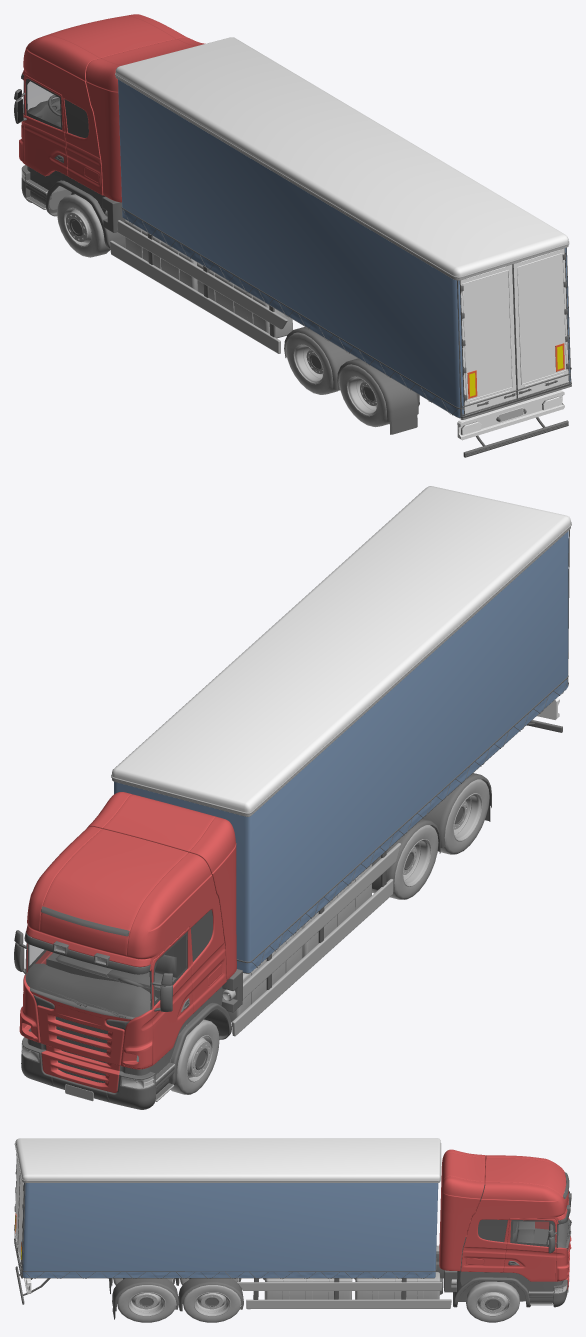
File: truck.fbx
The picture shows the model from 3 angles, top to bottom: view 1: azimuth 30°, elevation 25°; view 2: azimuth 150°, elevation 25°; view 3: azimuth 270°, elevation 25°; orthographic projection. The views are drawn at different scales.
Visible parts, largest first — view 1: polySurface299, polySurface229, polySurface172, polySurface1, polySurface6, polySurface300, polySurface333, polySurface332, polySurface102, polySurface301, polySurface94, polySurface72 (+13 smaller); view 2: polySurface229, polySurface299, polySurface1, polySurface6, polySurface16, polySurface169, polySurface7, polySurface300, polySurface333, polySurface332, polySurface2, polySurface94 (+14 smaller); view 3: polySurface299, polySurface229, polySurface1, polySurface6, polySurface300, polySurface328, polySurface327, polySurface95, polySurface92, polySurface69, polySurface98, polySurface70 (+18 smaller).
Part boxes in pixels (x1=…): polySurface299: x1=118, y1=79, x2=570, y2=416; polySurface229: x1=115, y1=37, x2=569, y2=280; polySurface172: x1=460, y1=248, x2=568, y2=415; polySurface1: x1=19, y1=14, x2=186, y2=195; polySurface6: x1=86, y1=37, x2=205, y2=202; polySurface300: x1=122, y1=209, x2=460, y2=417; polySurface333: x1=110, y1=240, x2=280, y2=353; polySurface332: x1=117, y1=220, x2=287, y2=329; polySurface102: x1=457, y1=390, x2=564, y2=440; polySurface301: x1=337, y1=358, x2=418, y2=422; polySurface94: x1=57, y1=194, x2=110, y2=257; polySurface72: x1=197, y1=262, x2=292, y2=338; polySurface229: x1=111, y1=486, x2=571, y2=816; polySurface299: x1=114, y1=531, x2=568, y2=961; polySurface1: x1=19, y1=826, x2=226, y2=1069; polySurface6: x1=87, y1=792, x2=236, y2=980; polySurface16: x1=25, y1=911, x2=187, y2=1019; polySurface169: x1=29, y1=988, x2=133, y2=1092; polySurface7: x1=25, y1=943, x2=150, y2=1017; polySurface300: x1=237, y1=679, x2=567, y2=972; polySurface333: x1=232, y1=879, x2=393, y2=1036; polySurface332: x1=243, y1=843, x2=400, y2=999; polySurface2: x1=21, y1=1037, x2=155, y2=1109; polySurface94: x1=170, y1=1019, x2=219, y2=1094; polySurface299: x1=22, y1=1183, x2=438, y2=1273; polySurface229: x1=14, y1=1138, x2=441, y2=1182; polySurface1: x1=461, y1=1155, x2=571, y2=1281; polySurface6: x1=439, y1=1149, x2=485, y2=1271; polySurface300: x1=23, y1=1271, x2=435, y2=1277; polySurface328: x1=246, y1=1299, x2=451, y2=1309; polySurface327: x1=237, y1=1282, x2=441, y2=1290; polySurface95: x1=466, y1=1281, x2=519, y2=1322; polySurface92: x1=117, y1=1285, x2=176, y2=1322; polySurface69: x1=355, y1=1272, x2=440, y2=1299; polySurface98: x1=183, y1=1285, x2=241, y2=1322; polySurface70: x1=264, y1=1278, x2=352, y2=1299.
Bounding box in the file's own units: 7.83 × 10.39 × 32.62.
